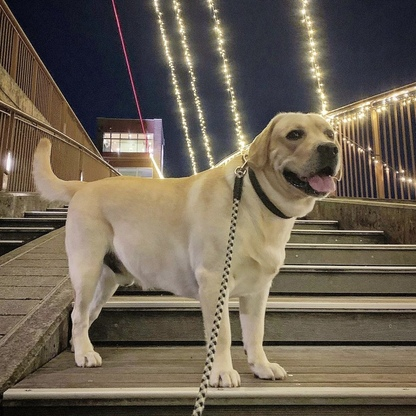labrado: (26, 107, 347, 389)
